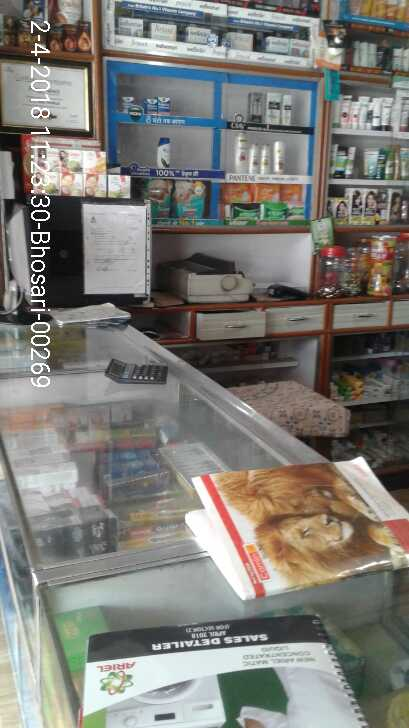vicks: (122, 94, 170, 118)
